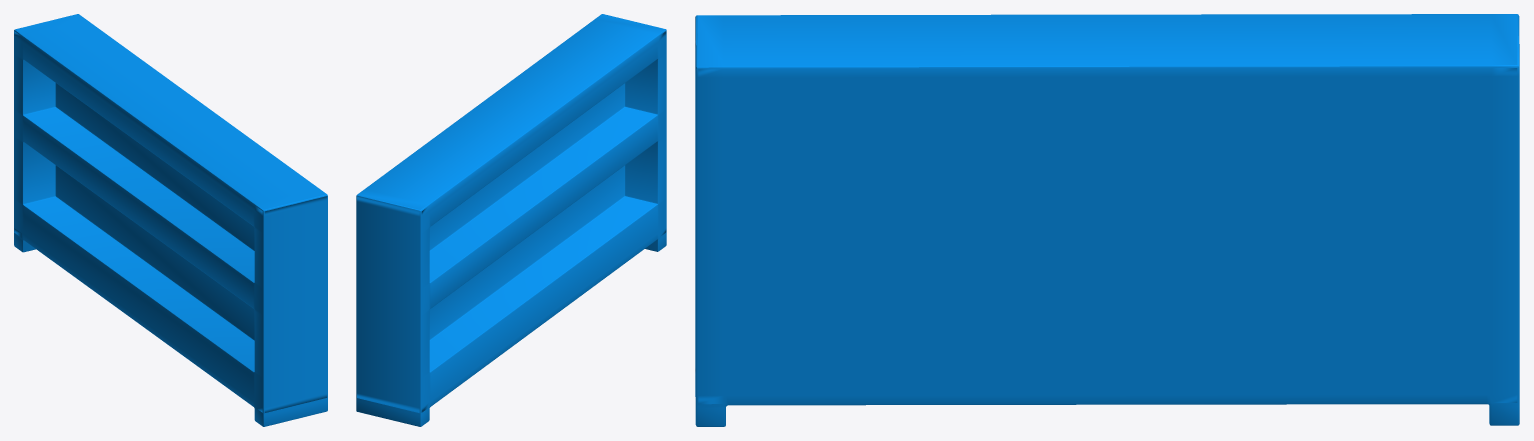
The model's file is estanteria.fbx.
3 views of the same model, side by side, from view 1: azimuth 30°, elevation 25°; view 2: azimuth 150°, elevation 25°; view 3: azimuth 270°, elevation 25° (orthographic). The views are drawn at different scales.
Parts seen in each view (by area): view 1: estanteria; view 2: estanteria; view 3: estanteria.
Part boxes in pixels (x1,y1,x2,y2): estanteria: (14,14,327,426); estanteria: (356,14,666,426); estanteria: (695,14,1519,426).
Size of the model in its own units: 1.18 by 3.67 by 7.61.
